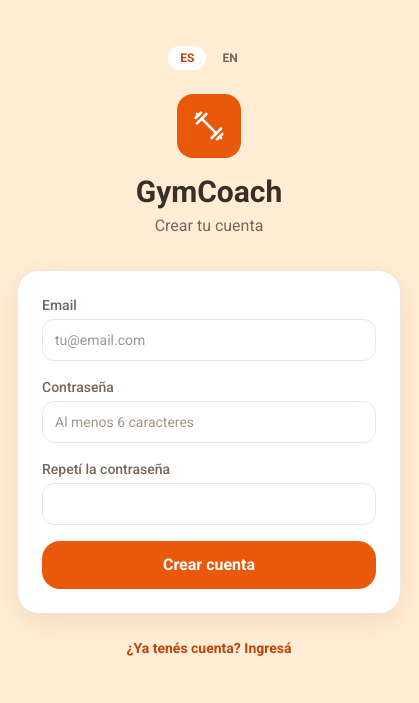
Test: SignupPage › no manda nada si las contraseñas no coinciden
This screenshot has width=419, height=703.
Step 1. Type "ana@mail.com" into the field labelled "Email" → point(209, 340), box left=42, top=319, right=376, bottom=361
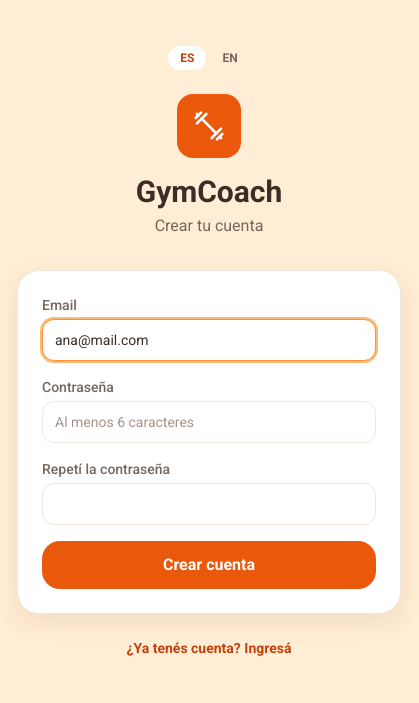
Step 2. Type "123456" into the password field labelled "Contraseña" → point(209, 422), box left=42, top=401, right=376, bottom=443
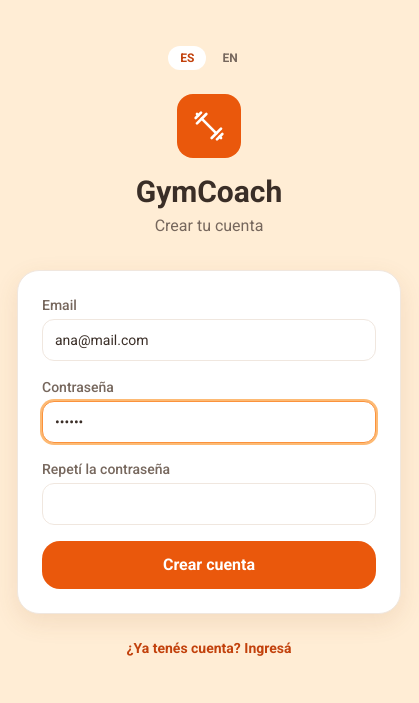
Step 3. Type "123457" into the password field labelled "Repetí la contraseña" → point(209, 504), box left=42, top=483, right=376, bottom=525
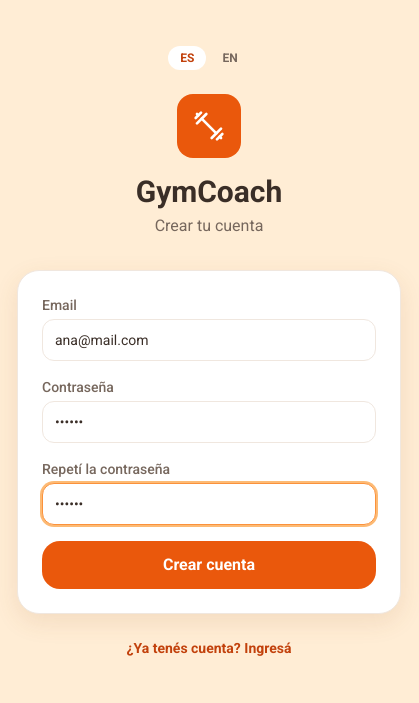
Step 4. Click the button "Crear cuenta" → point(209, 565), box left=42, top=541, right=376, bottom=589
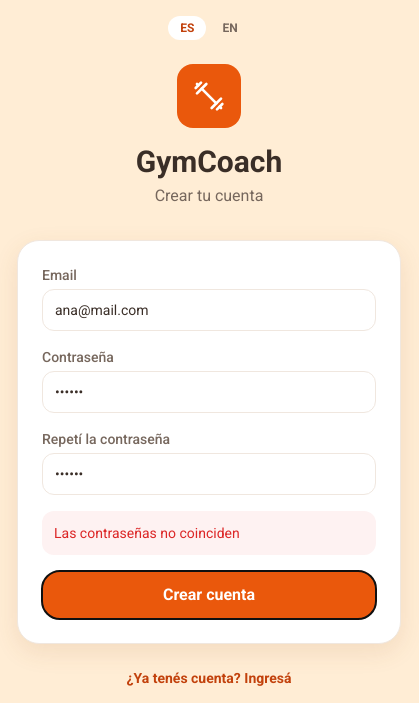
Check: the text "Las contraseñas no coinciden" is shown, box left=42, top=511, right=376, bottom=555
